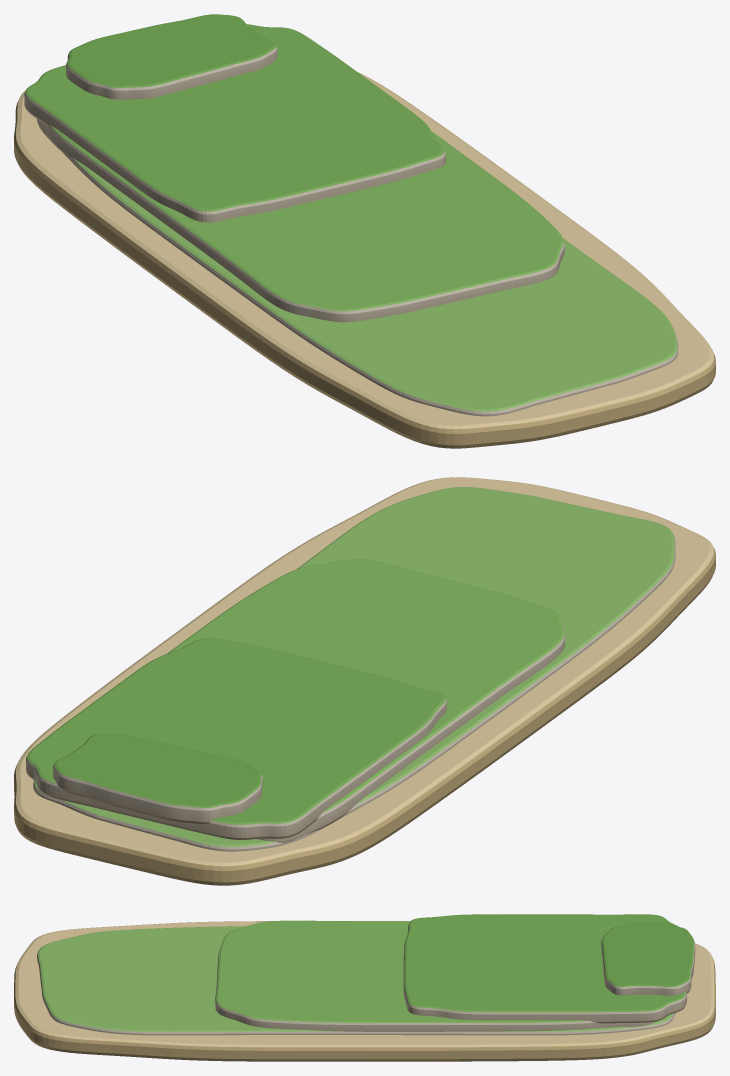
The model's file is terrain.glb.
3 views of the same model, one above another, from view 1: azimuth 30°, elevation 25°; view 2: azimuth 150°, elevation 25°; view 3: azimuth 270°, elevation 25° (orthographic). The views are drawn at different scales.
Visible parts, largest first — view 1: lab_terrain; view 2: lab_terrain; view 3: lab_terrain.
Boxes of the visible parts, box(x1,y1,x2,y2) form: lab_terrain: box(14, 14, 715, 448); lab_terrain: box(14, 477, 715, 885); lab_terrain: box(14, 914, 715, 1061).
Bounding box in the file's own units: 39.2 × 6.65 × 91.22.
